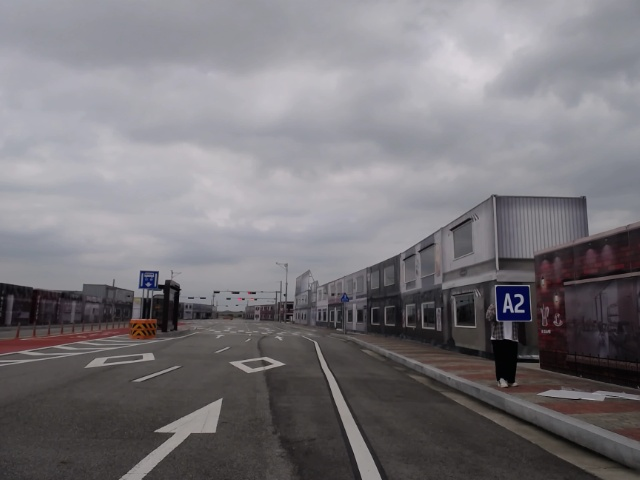delivery_a2: (495, 285, 532, 322)
